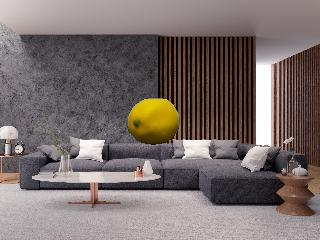lemon: (128, 98, 180, 145)
